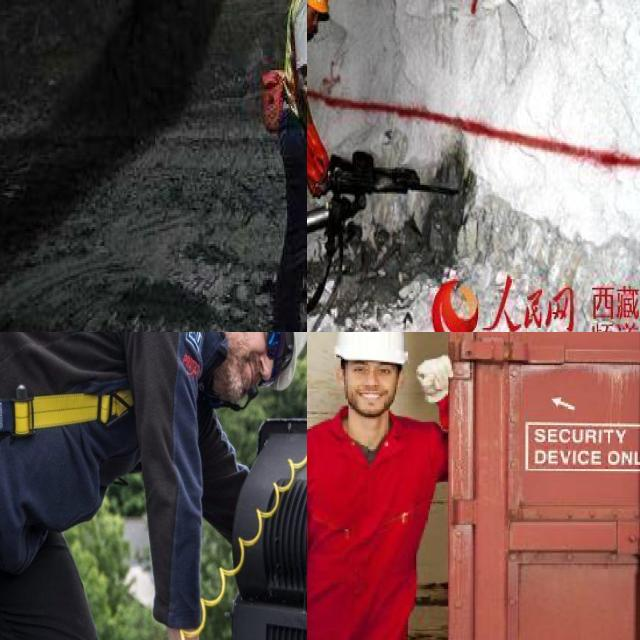Ear-protection: (190, 332, 307, 421)
No_Ear-Protection: (336, 367, 345, 385), (398, 369, 404, 387)
No_Glasses: (347, 361, 398, 376)
face_nomask: (346, 374, 397, 417), (307, 0, 322, 45)
hand_glove: (307, 116, 332, 195), (417, 356, 453, 403)
head_helmet: (336, 332, 403, 365)
person: (279, 0, 307, 332)
vest: (288, 0, 307, 137)
